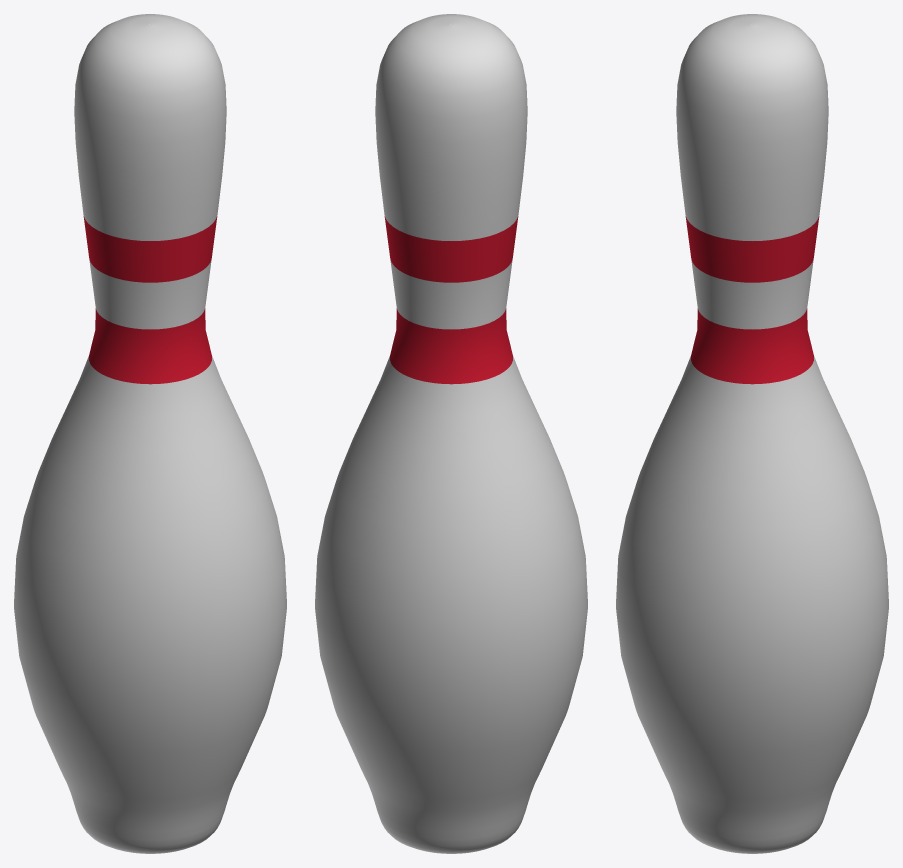
The model's file is course3_49.fbx.
3 views of the same model, side by side, from view 1: azimuth 30°, elevation 25°; view 2: azimuth 150°, elevation 25°; view 3: azimuth 270°, elevation 25° (orthographic).
Parts seen in each view (by area): view 1: PinOutline.001; view 2: PinOutline.001; view 3: PinOutline.001.
Boxes of the visible parts, box(x1,y1,x2,y2) form: PinOutline.001: box(14, 14, 286, 853); PinOutline.001: box(315, 14, 587, 853); PinOutline.001: box(616, 14, 888, 853).
Bounding box in the file's own units: 116 × 380 × 116.
